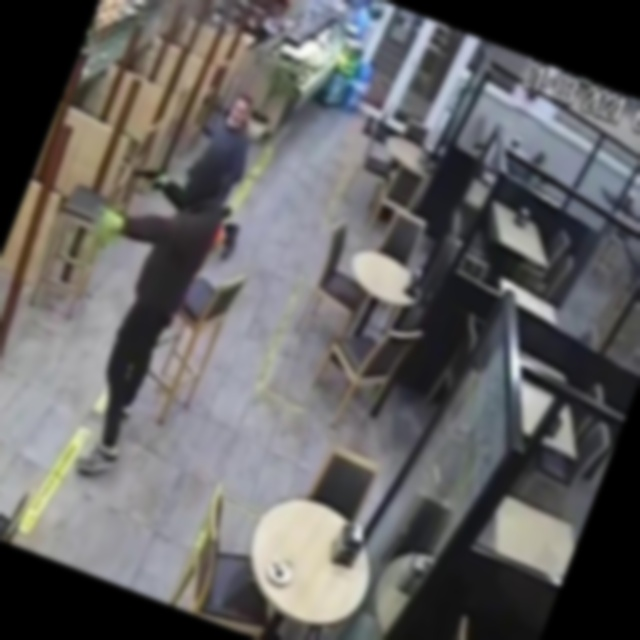gun: (119, 142, 183, 206)
